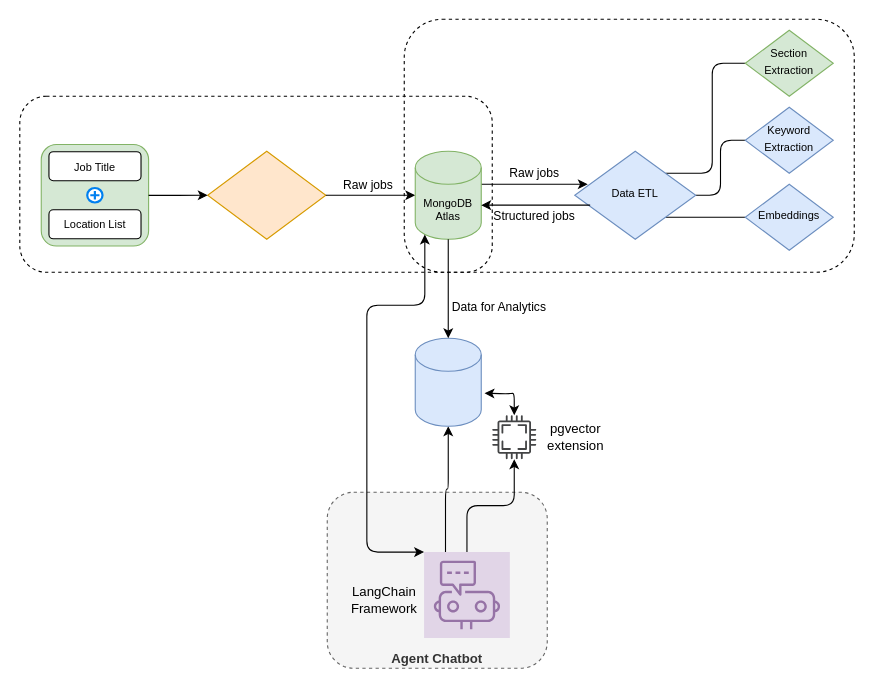
The diagram is 873 pixels wide and 688 high, and some of its shapes have lost their labels. The shapes that lost their labels are listed below. From the top down, each one's box as (x1, y1, x2, y2) in pixels, then its label:
(403, 18, 854, 272): Cleaning
(19, 95, 492, 272): Ingestion
(207, 150, 326, 239): WebScrapingAPI Google Jobs
(414, 337, 481, 426): PostgreSQL on AWS RDS
